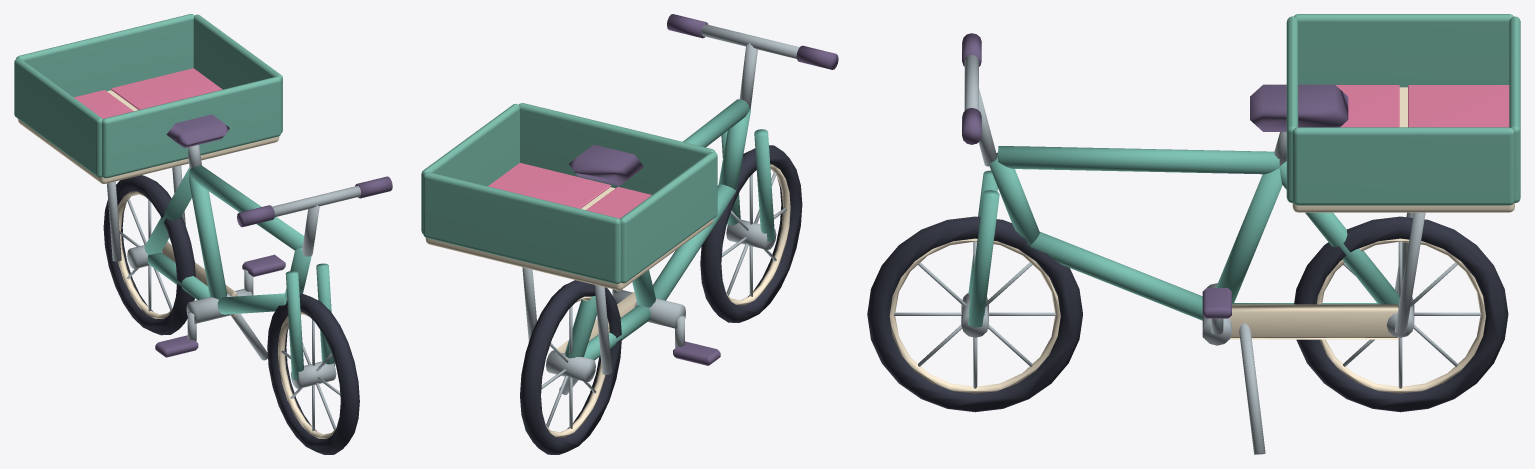
The model's file is Delivery_bike_4_cargo.fbx.
The picture shows the model from 3 angles, left to right: view 1: azimuth 30°, elevation 25°; view 2: azimuth 150°, elevation 25°; view 3: azimuth 270°, elevation 25°; orthographic projection. The views are drawn at different scales.
Parts seen in each view (by area): view 1: Toon_Delivery_bike_4_cargo Delivery_Bicycle_Mesh.001, Toon_Delivery_bike_4_cargo Cargo end.002, Toon_Delivery_bike_4_cargo Cargo end.003, Toon_Delivery_bike_4_cargo Bike_FrontWheel_AXLE_Mesh.001, Toon_Delivery_bike_4_cargo Bike_RearWheel_AXLE_Mesh.001, Toon_Delivery_bike_4_cargo Cargo side.002, Toon_Delivery_bike_4_cargo Bike_Steering_Mesh.001, Toon_Delivery_bike_4_cargo Cargo side.003, Toon_Delivery_bike_4_cargo Bike_Pedals_AXLE_Mesh.001, Toon_Delivery_bike_4_cargo Slot pad.007, Toon_Delivery_bike_4_cargo Cargo tray.001, Toon_Delivery_bike_4_cargo Slot pad.006; view 2: Toon_Delivery_bike_4_cargo Cargo end.003, Toon_Delivery_bike_4_cargo Delivery_Bicycle_Mesh.001, Toon_Delivery_bike_4_cargo Bike_RearWheel_AXLE_Mesh.001, Toon_Delivery_bike_4_cargo Bike_FrontWheel_AXLE_Mesh.001, Toon_Delivery_bike_4_cargo Cargo end.002, Toon_Delivery_bike_4_cargo Cargo side.002, Toon_Delivery_bike_4_cargo Bike_Steering_Mesh.001, Toon_Delivery_bike_4_cargo Cargo side.003, Toon_Delivery_bike_4_cargo Slot pad.005, Toon_Delivery_bike_4_cargo Bike_Pedals_AXLE_Mesh.001, Toon_Delivery_bike_4_cargo Cargo tray.001, Toon_Delivery_bike_4_cargo Slot pad.004; view 3: Toon_Delivery_bike_4_cargo Delivery_Bicycle_Mesh.001, Toon_Delivery_bike_4_cargo Cargo side.003, Toon_Delivery_bike_4_cargo Bike_FrontWheel_AXLE_Mesh.001, Toon_Delivery_bike_4_cargo Bike_RearWheel_AXLE_Mesh.001, Toon_Delivery_bike_4_cargo Cargo side.002, Toon_Delivery_bike_4_cargo Bike_Steering_Mesh.001, Toon_Delivery_bike_4_cargo Slot pad.006, Toon_Delivery_bike_4_cargo Slot pad.004, Toon_Delivery_bike_4_cargo Cargo tray.001, Toon_Delivery_bike_4_cargo Cargo end.002, Toon_Delivery_bike_4_cargo Cargo end.003, Toon_Delivery_bike_4_cargo Bike_Pedals_AXLE_Mesh.001.
Part boxes in pixels (x1,y1,x2,y2): Toon_Delivery_bike_4_cargo Delivery_Bicycle_Mesh.001: (107,114,311,360); Toon_Delivery_bike_4_cargo Cargo end.002: (102,76,281,178); Toon_Delivery_bike_4_cargo Cargo end.003: (16,14,194,97); Toon_Delivery_bike_4_cargo Bike_FrontWheel_AXLE_Mesh.001: (267,293,359,454); Toon_Delivery_bike_4_cargo Bike_RearWheel_AXLE_Mesh.001: (103,175,195,335); Toon_Delivery_bike_4_cargo Cargo side.002: (14,58,102,177); Toon_Delivery_bike_4_cargo Bike_Steering_Mesh.001: (237,176,392,380); Toon_Delivery_bike_4_cargo Cargo side.003: (193,14,282,132); Toon_Delivery_bike_4_cargo Bike_Pedals_AXLE_Mesh.001: (155,254,285,357); Toon_Delivery_bike_4_cargo Slot pad.007: (111,68,222,109); Toon_Delivery_bike_4_cargo Cargo tray.001: (18,90,279,183); Toon_Delivery_bike_4_cargo Slot pad.006: (74,90,133,118); Toon_Delivery_bike_4_cargo Cargo end.003: (423,172,620,284); Toon_Delivery_bike_4_cargo Delivery_Bicycle_Mesh.001: (522,99,750,394); Toon_Delivery_bike_4_cargo Bike_RearWheel_AXLE_Mesh.001: (520,280,621,454); Toon_Delivery_bike_4_cargo Bike_FrontWheel_AXLE_Mesh.001: (700,145,802,322); Toon_Delivery_bike_4_cargo Cargo end.002: (519,103,715,194); Toon_Delivery_bike_4_cargo Cargo side.002: (620,152,717,283); Toon_Delivery_bike_4_cargo Bike_Steering_Mesh.001: (667,14,838,241); Toon_Delivery_bike_4_cargo Cargo side.003: (421,103,519,233); Toon_Delivery_bike_4_cargo Slot pad.005: (488,163,611,208); Toon_Delivery_bike_4_cargo Bike_Pedals_AXLE_Mesh.001: (612,289,720,365); Toon_Delivery_bike_4_cargo Cargo tray.001: (425,187,713,290); Toon_Delivery_bike_4_cargo Slot pad.004: (586,186,651,218); Toon_Delivery_bike_4_cargo Delivery_Bicycle_Mesh.001: (989,84,1425,454); Toon_Delivery_bike_4_cargo Cargo side.003: (1292,127,1514,205); Toon_Delivery_bike_4_cargo Bike_FrontWheel_AXLE_Mesh.001: (867,216,1082,412); Toon_Delivery_bike_4_cargo Bike_RearWheel_AXLE_Mesh.001: (1294,216,1508,412); Toon_Delivery_bike_4_cargo Cargo side.002: (1294,14,1513,87); Toon_Delivery_bike_4_cargo Bike_Steering_Mesh.001: (962,33,999,327); Toon_Delivery_bike_4_cargo Slot pad.006: (1408,85,1509,127); Toon_Delivery_bike_4_cargo Slot pad.004: (1336,85,1399,127); Toon_Delivery_bike_4_cargo Cargo tray.001: (1292,87,1514,212); Toon_Delivery_bike_4_cargo Cargo end.002: (1286,16,1298,202); Toon_Delivery_bike_4_cargo Cargo end.003: (1509,16,1520,202); Toon_Delivery_bike_4_cargo Bike_Pedals_AXLE_Mesh.001: (1202,283,1231,345).
Bounding box in the file's own units: 85.5 × 117 × 200.
